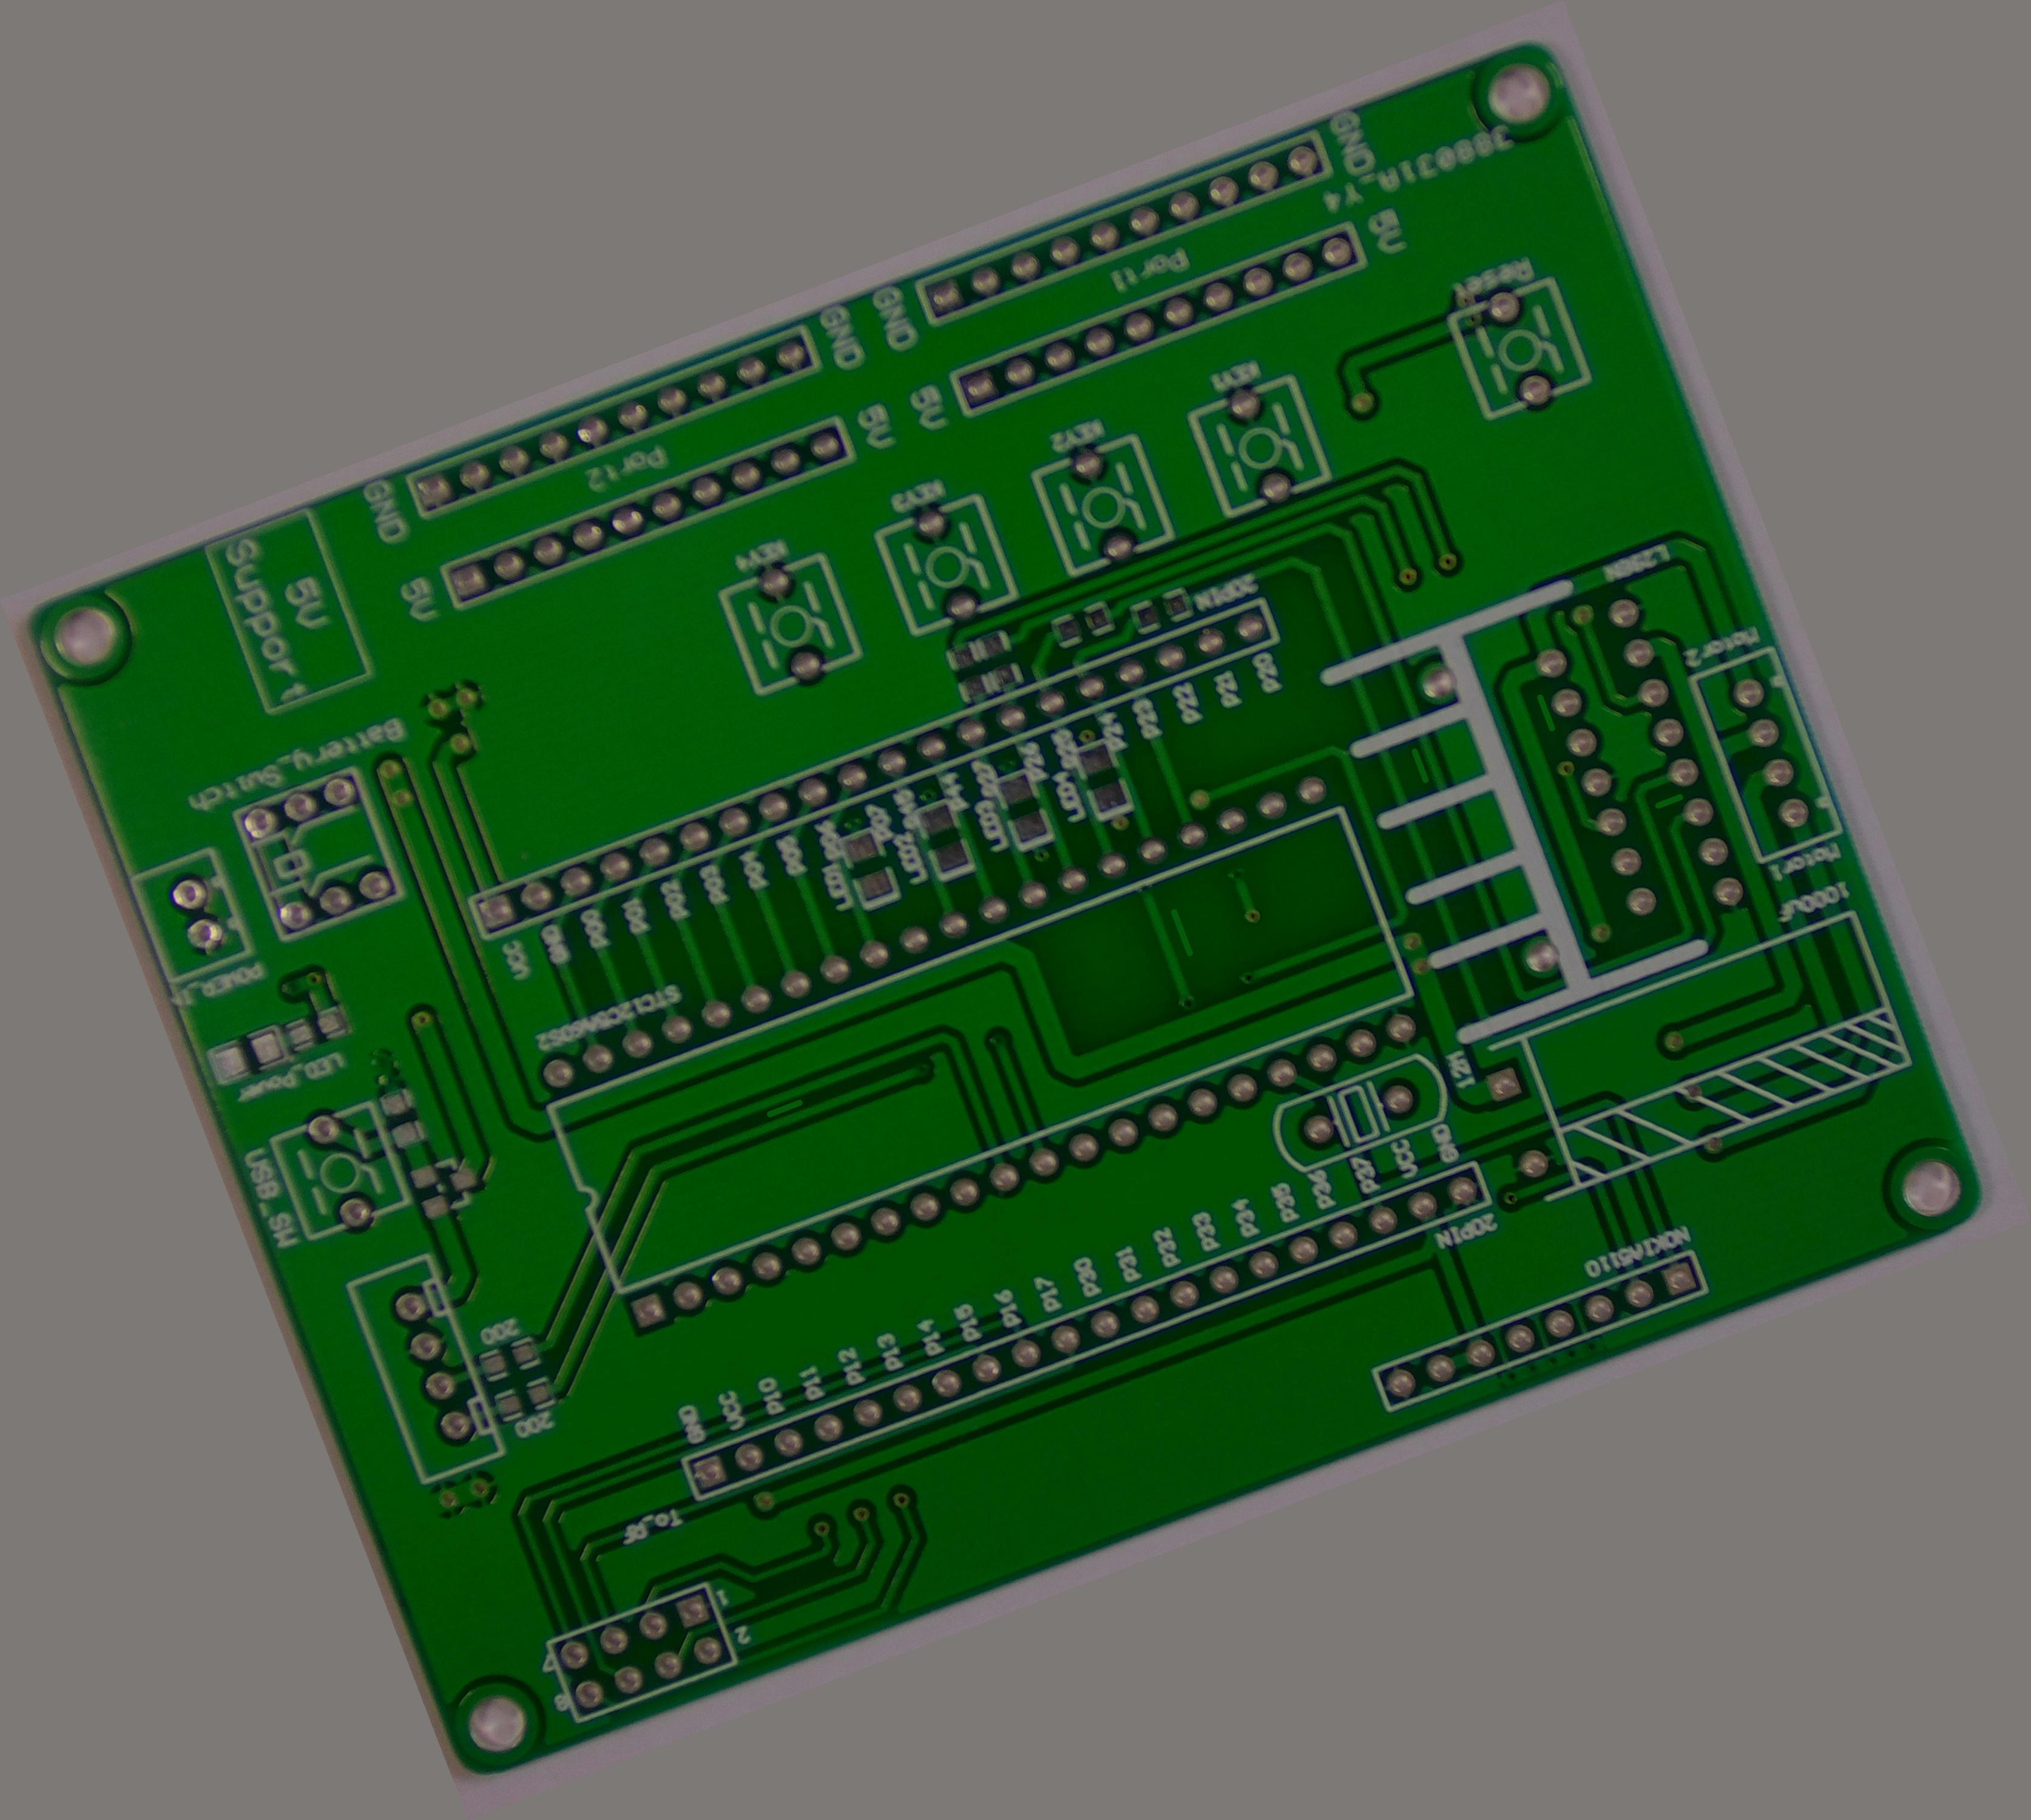spurious_copper: (1160, 898, 1207, 968), (755, 1086, 817, 1131), (1643, 780, 1695, 822), (1400, 736, 1441, 789), (1527, 685, 1565, 738)
